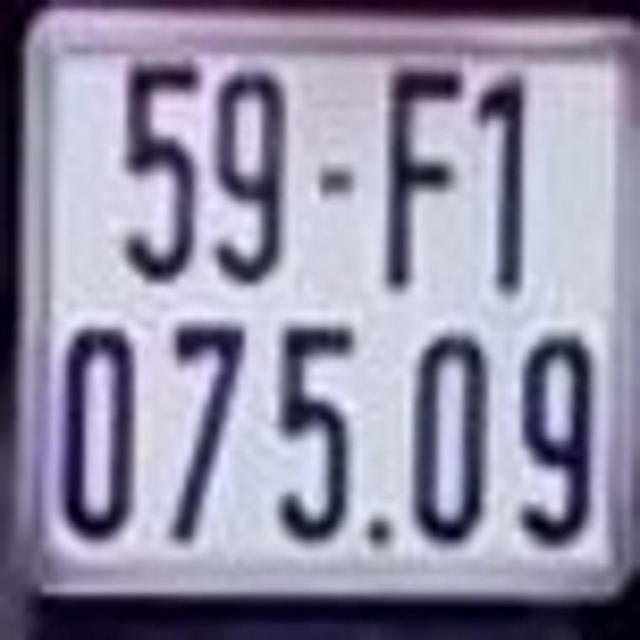0: (56, 312, 146, 542), (408, 313, 491, 546)
1: (471, 53, 545, 296)
5: (270, 312, 360, 546), (122, 55, 207, 282)
7: (164, 306, 250, 549)
9: (511, 321, 596, 552), (210, 55, 289, 284)
F: (379, 57, 469, 289)
